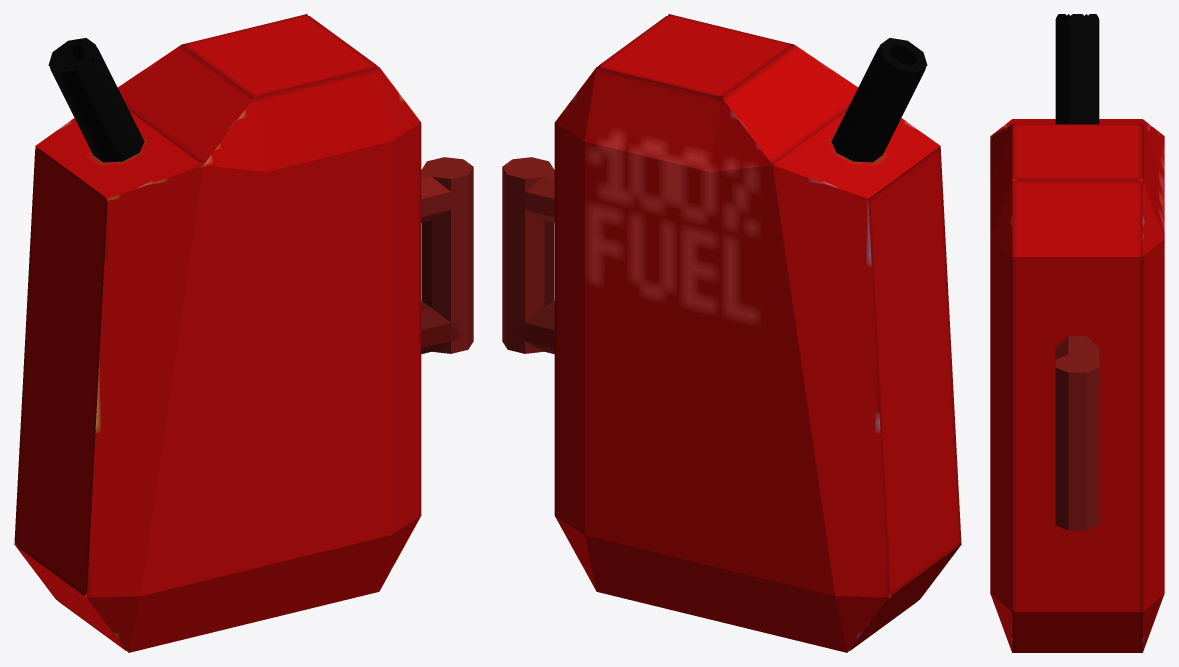
Rendered from Jerrycan.obj.
The picture shows the model from 3 angles, left to right: view 1: azimuth 30°, elevation 25°; view 2: azimuth 150°, elevation 25°; view 3: azimuth 270°, elevation 25°; orthographic projection. The views are drawn at different scales.
Parts seen in each view (by area): view 1: beveled_cuboid, cylinder, tube; view 2: beveled_cuboid, cylinder, tube; view 3: beveled_cuboid, cylinder, tube.
Part boxes in pixels (left/top/right/bottom): beveled_cuboid: left=14, top=14, right=421, bottom=652; cylinder: left=421, top=157, right=473, bottom=354; tube: left=48, top=38, right=144, bottom=162; beveled_cuboid: left=554, top=14, right=961, bottom=652; cylinder: left=502, top=157, right=554, bottom=354; tube: left=831, top=38, right=927, bottom=162; beveled_cuboid: left=990, top=119, right=1164, bottom=652; cylinder: left=1055, top=336, right=1099, bottom=530; tube: left=1055, top=14, right=1099, bottom=124.
Bounding box in the file's own units: 1.25 × 1.67 × 0.5.
2 materials, 2 textured.
